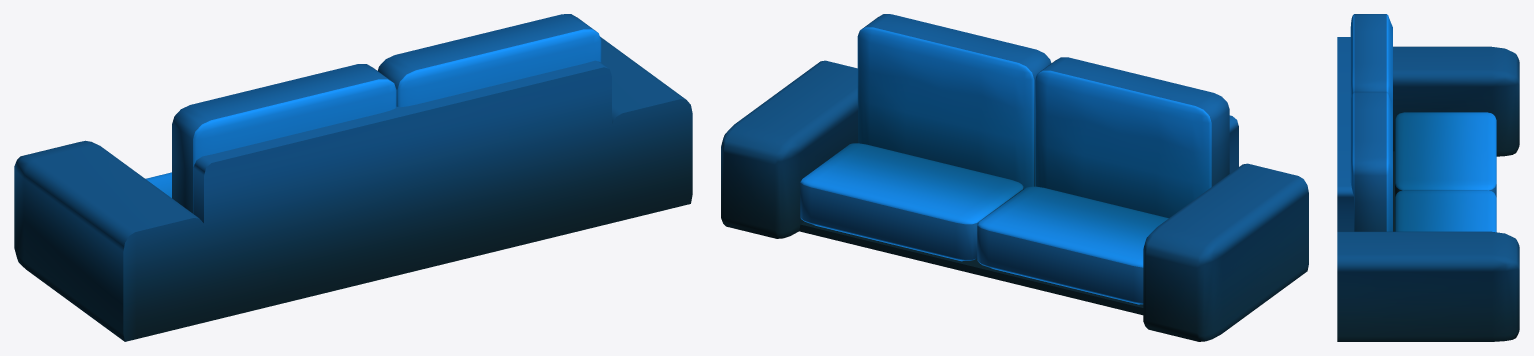
The model's file is Couch.fbx.
The picture shows the model from 3 angles, left to right: view 1: azimuth 30°, elevation 25°; view 2: azimuth 150°, elevation 25°; view 3: azimuth 270°, elevation 25°; orthographic projection. The views are drawn at different scales.
Parts seen in each view (by area): view 1: Cube.001; view 2: Cube.001; view 3: Cube.001.
Part boxes in pixels (x1=…): Cube.001: x1=14, y1=14, x2=692, y2=341; Cube.001: x1=721, y1=14, x2=1308, y2=341; Cube.001: x1=1337, y1=14, x2=1519, y2=341.
Bounding box in the file's own units: 123 × 39.4 × 44.05.
